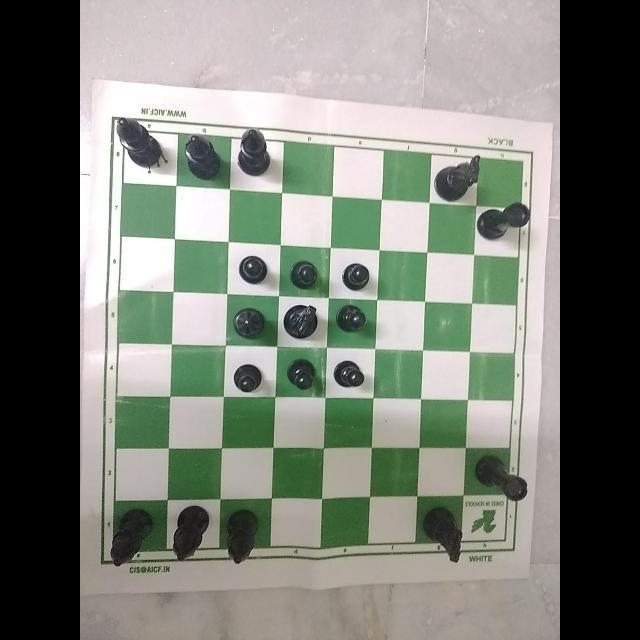black-bishop: (109, 508, 154, 567), (116, 118, 164, 167), (172, 506, 210, 560), (225, 508, 258, 565), (183, 133, 222, 180), (236, 126, 272, 176), (233, 307, 264, 338)
black-knight: (422, 506, 462, 563), (432, 156, 481, 202), (283, 304, 319, 338)
black-pawn: (286, 358, 316, 391), (233, 363, 263, 393), (341, 263, 371, 292), (337, 304, 368, 332), (238, 256, 267, 285), (290, 260, 318, 289), (335, 362, 365, 389)
black-rook: (476, 452, 528, 501), (477, 201, 530, 240)
